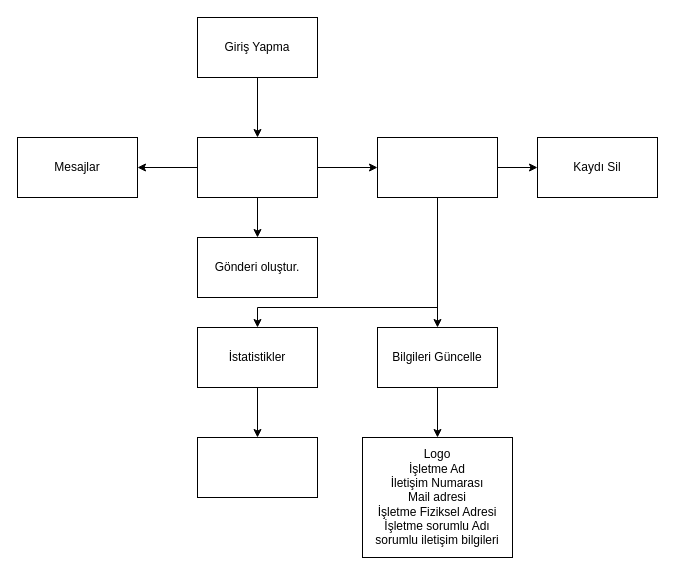
Some shapes in this 675 by 575 pixel diagram are drawn without their labels. The shapes that lost their labels are listed below. From the top down, each one's centre as x and y in pixels, then its label:
the point at 257,167: Ana Sayfa Akışı
the point at 437,167: Profil
the point at 257,467: Yorumlar
